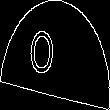O_S: (41, 26, 69, 84)
